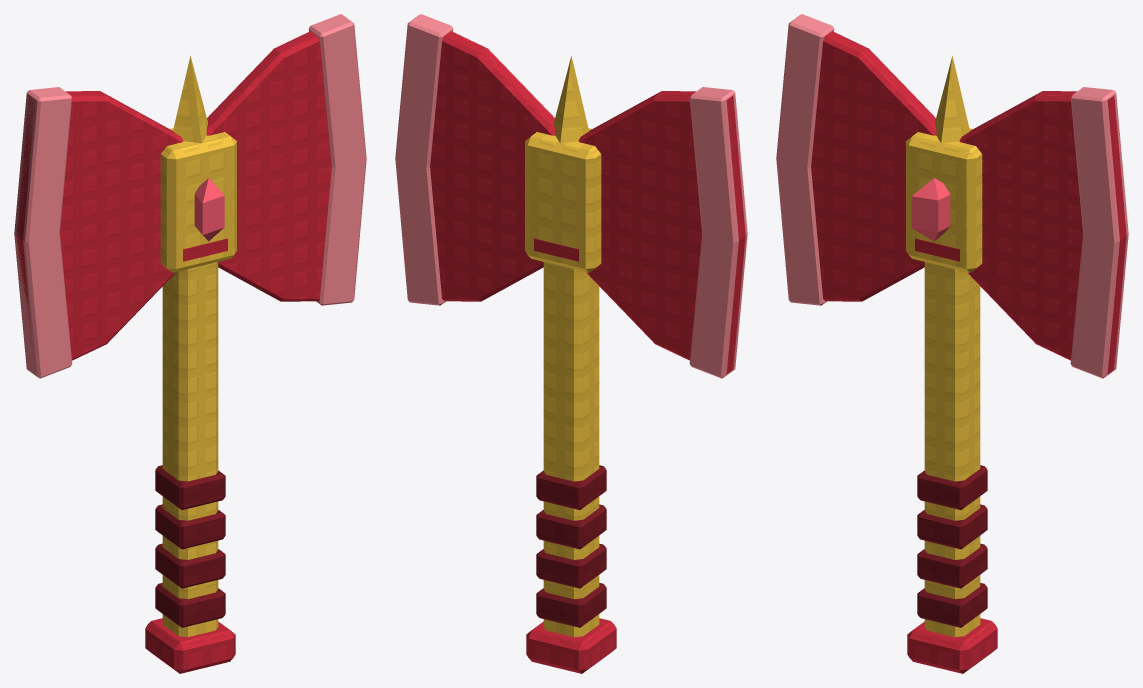
File: outil_18_hache_double_de_rubis.glb
3 renders of one model, left to right at view 1: azimuth 30°, elevation 25°; view 2: azimuth 150°, elevation 25°; view 3: azimuth 330°, elevation 25°, orthographic.
Parts seen in each view (by area): view 1: outil_18_hache_double_de_rubis; view 2: outil_18_hache_double_de_rubis; view 3: outil_18_hache_double_de_rubis.
Boxes of the visible parts, box(x1,y1,x2,y2) form: outil_18_hache_double_de_rubis: box(14, 14, 366, 673); outil_18_hache_double_de_rubis: box(395, 14, 747, 673); outil_18_hache_double_de_rubis: box(776, 14, 1128, 673).
Size of the model in its own units: 2.92 by 4.91 by 0.656.
1 material, 1 textured.
